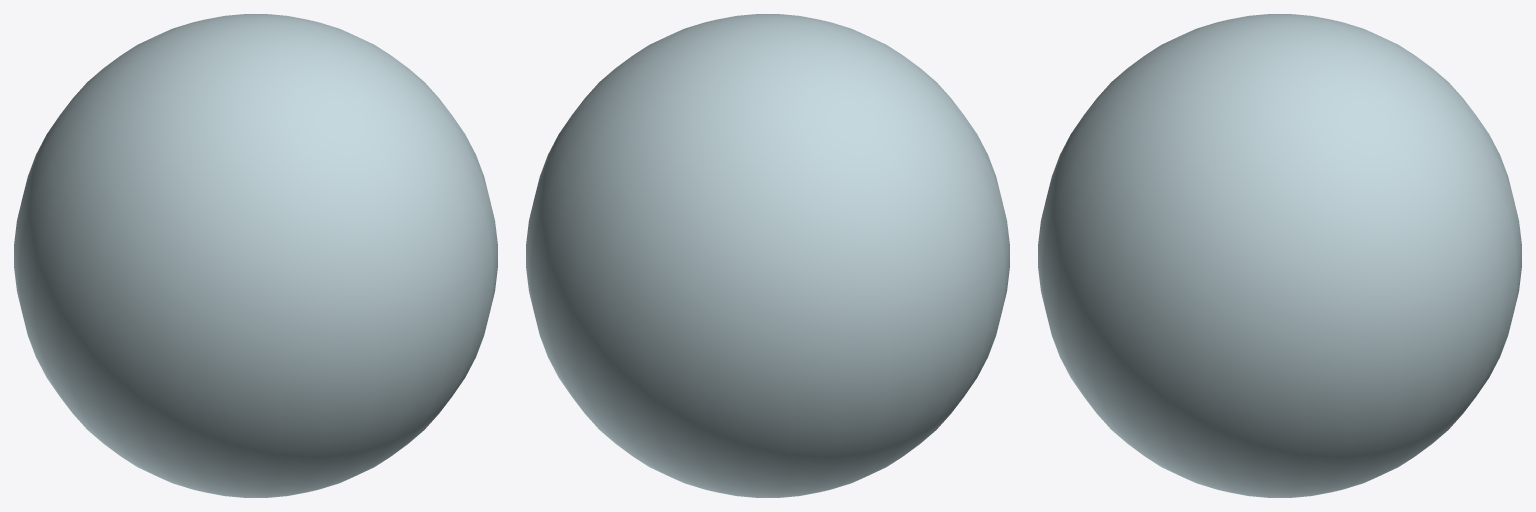
The model's file is test_alpha.gltf.
3 views of the same model, side by side, from view 1: azimuth 30°, elevation 25°; view 2: azimuth 150°, elevation 25°; view 3: azimuth 270°, elevation 25° (orthographic).
Parts seen in each view (by area): view 1: Renderer Node; view 2: Renderer Node; view 3: Renderer Node.
Boxes of the visible parts, x1,y1,x2,y2 form: Renderer Node: [14, 14, 497, 497]; Renderer Node: [526, 14, 1009, 497]; Renderer Node: [1038, 14, 1521, 497].
Size of the model in its own units: 0.9931 by 1 by 0.9985.
